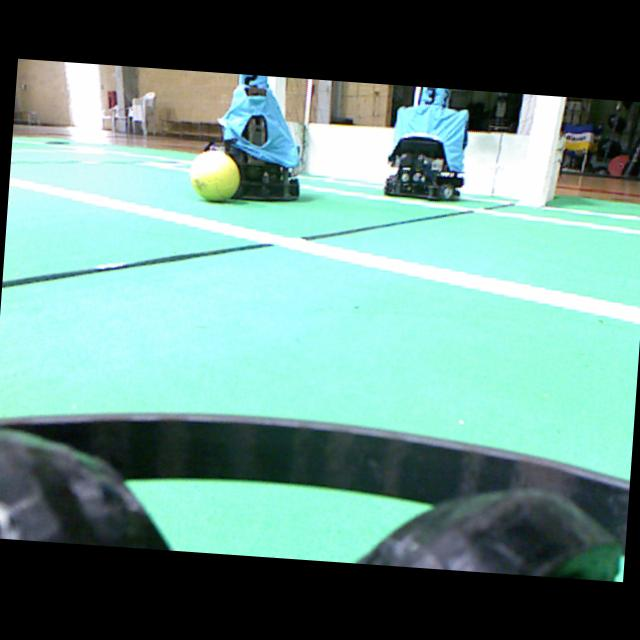ball: (189, 149, 239, 200)
goal: (519, 95, 564, 205)
